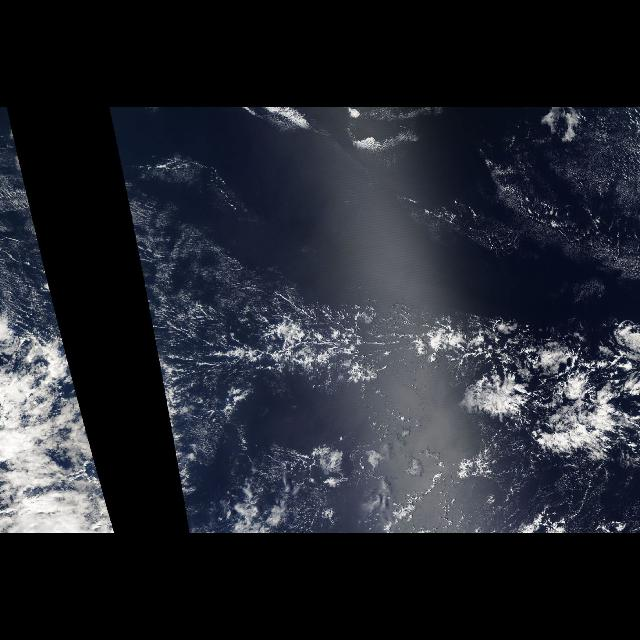Fish: (240, 269, 640, 523)
Sugar: (119, 116, 639, 324)
